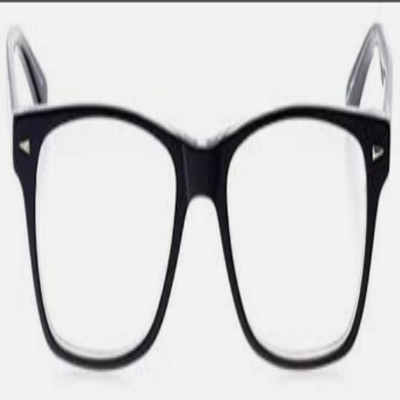glasses: (3, 21, 394, 382)
